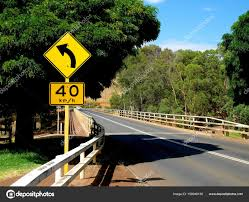curveLeft: (43, 29, 93, 79)
